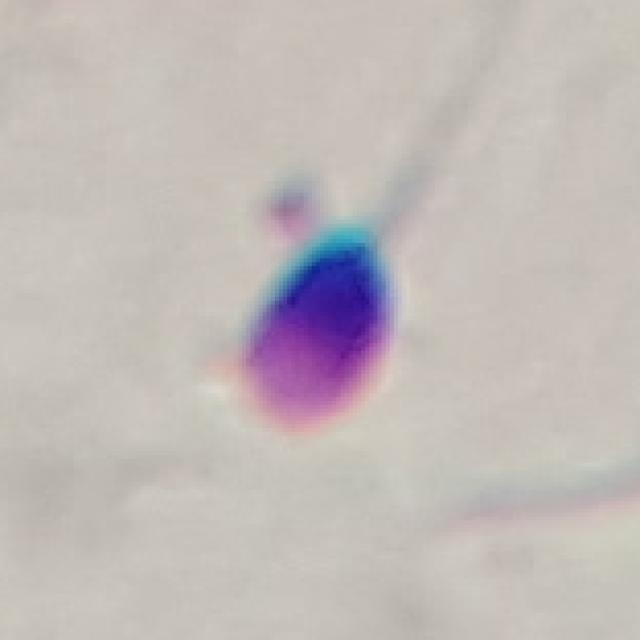normal sperm: (243, 153, 434, 433)
